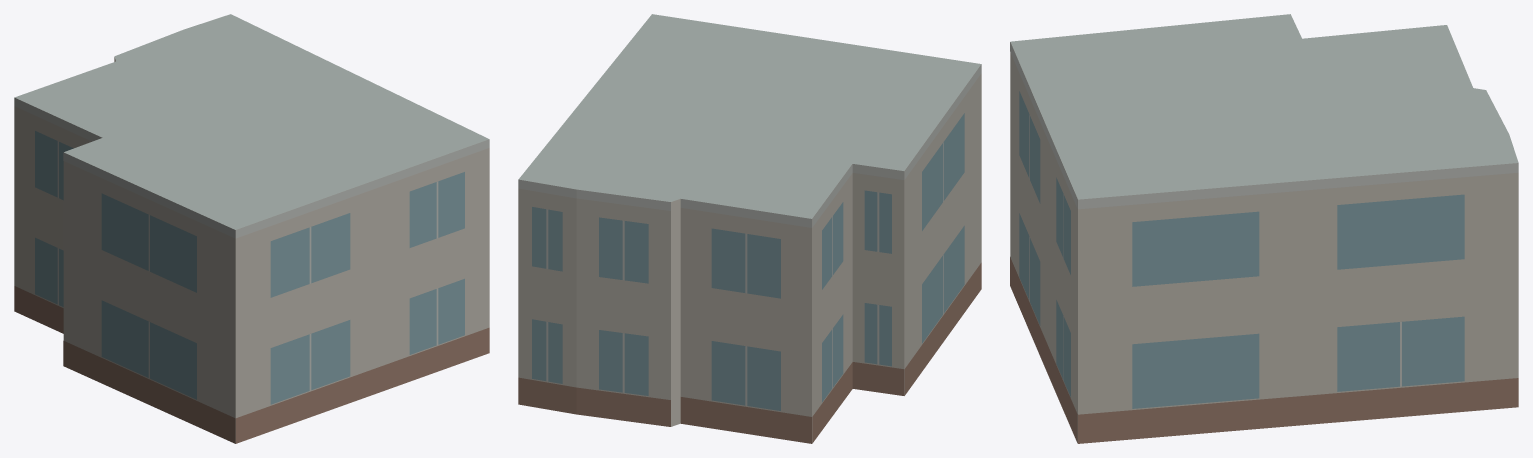
Rendered from survey-upis-32689304.glb.
The picture shows the model from 3 angles, left to right: view 1: azimuth 30°, elevation 25°; view 2: azimuth 150°, elevation 25°; view 3: azimuth 270°, elevation 25°; orthographic projection. The views are drawn at different scales.
Visible parts, largest first — view 1: survey-upis-32689304.tmp; view 2: survey-upis-32689304.tmp; view 3: survey-upis-32689304.tmp.
Part boxes in pixels (x1=…): survey-upis-32689304.tmp: x1=14, y1=14, x2=489, y2=443; survey-upis-32689304.tmp: x1=518, y1=14, x2=981, y2=443; survey-upis-32689304.tmp: x1=1010, y1=14, x2=1518, y2=443.
Size of the model in its own units: 9.95 by 6.1 by 11.52.
